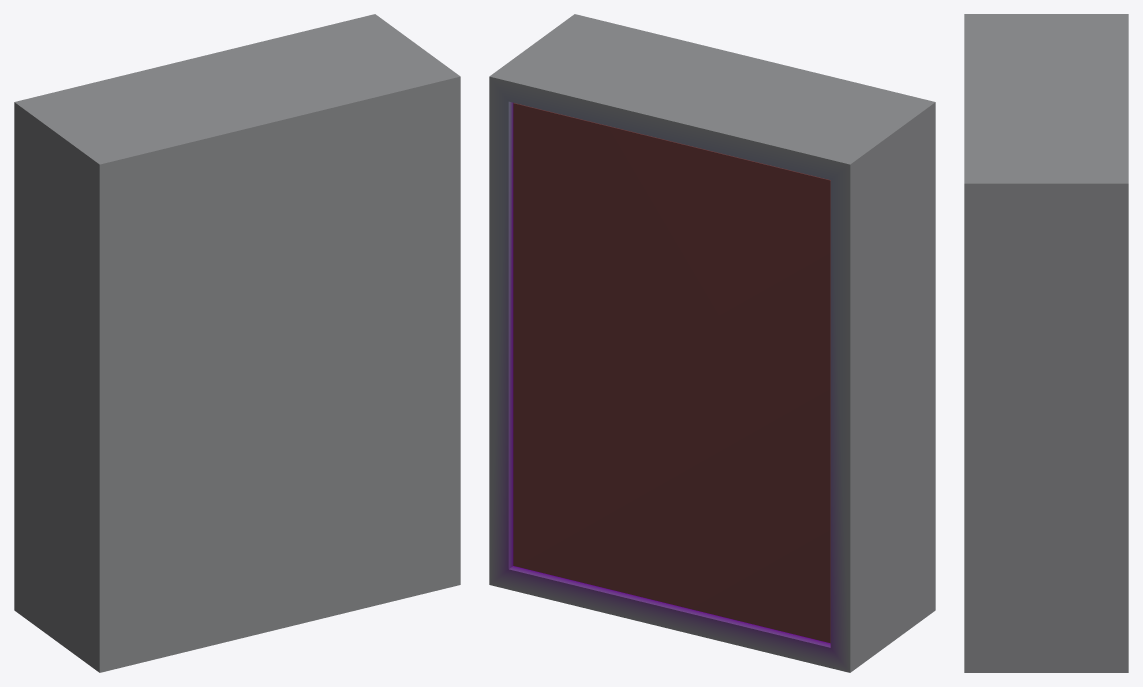
3 renders of one model, left to right at view 1: azimuth 30°, elevation 25°; view 2: azimuth 150°, elevation 25°; view 3: azimuth 270°, elevation 25°, orthographic. The views are drawn at different scales.
Visible parts, largest first — view 1: body; view 2: panel, body; view 3: body.
Part boxes in pixels (x1,y1,x2,y2): body: (14,14,460,672); panel: (513,103,830,642); body: (489,14,935,672); body: (964,14,1128,672).
Size of the model in its own units: 0.4458 by 0.6 by 0.1828.
